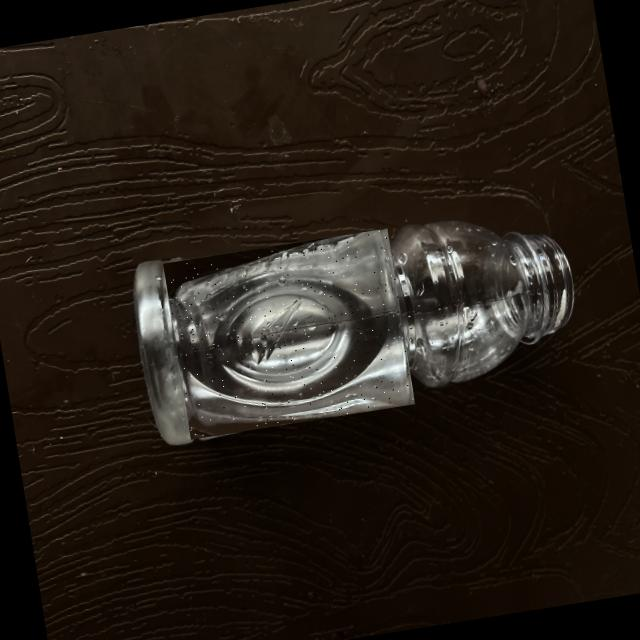PET_With_Liquid: (172, 230, 410, 422)
